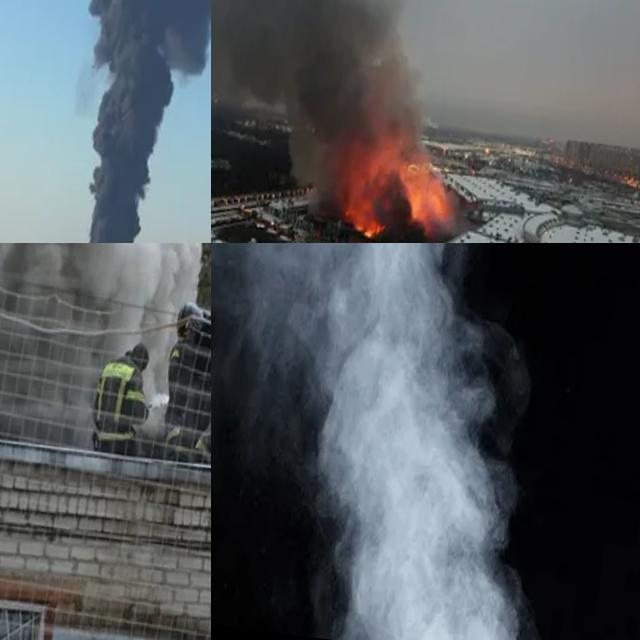smoke: (211, 243, 615, 640), (211, 0, 487, 243), (18, 0, 211, 243), (0, 243, 211, 463)
